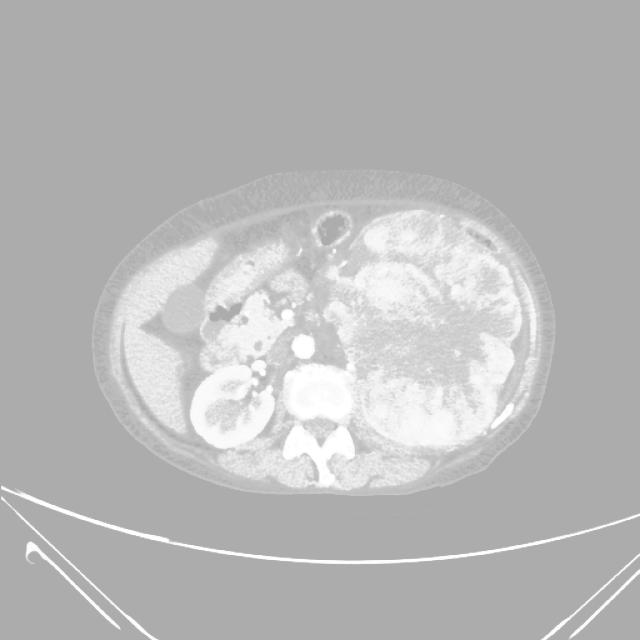TUMOR: (141, 254, 344, 450)
